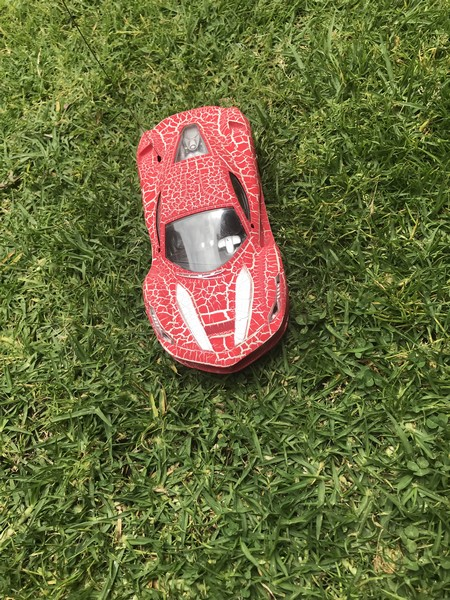RC: (133, 103, 293, 373)
